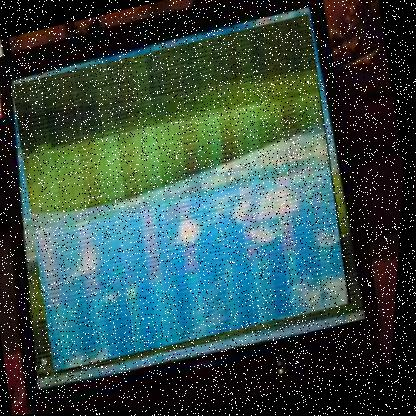lines: (0, 14, 371, 376)
